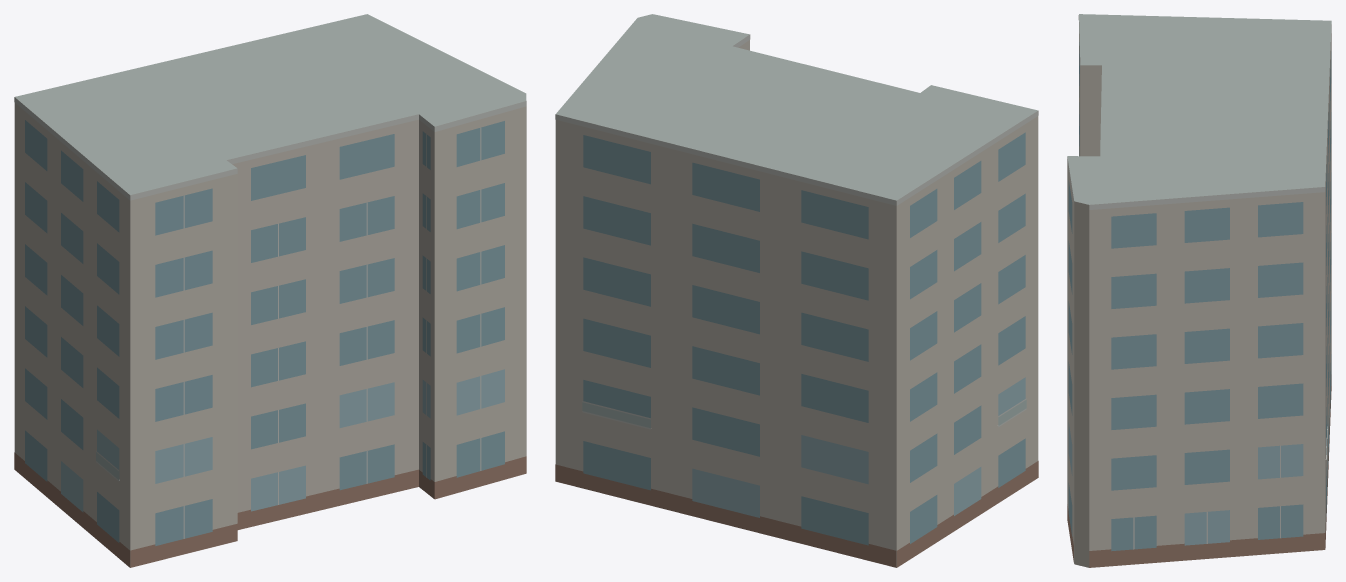
Rendered from survey-upis-32839513.glb.
The picture shows the model from 3 angles, left to right: view 1: azimuth 30°, elevation 25°; view 2: azimuth 150°, elevation 25°; view 3: azimuth 270°, elevation 25°; orthographic projection. The views are drawn at different scales.
Parts seen in each view (by area): view 1: survey-upis-32839513.tmp; view 2: survey-upis-32839513.tmp; view 3: survey-upis-32839513.tmp.
Part boxes in pixels (box(x1,y1,x2,y2)): survey-upis-32839513.tmp: box(14, 14, 526, 567); survey-upis-32839513.tmp: box(555, 14, 1038, 567); survey-upis-32839513.tmp: box(1067, 14, 1331, 567).
Bounding box in the file's own units: 19.07 × 16.9 × 11.16.
